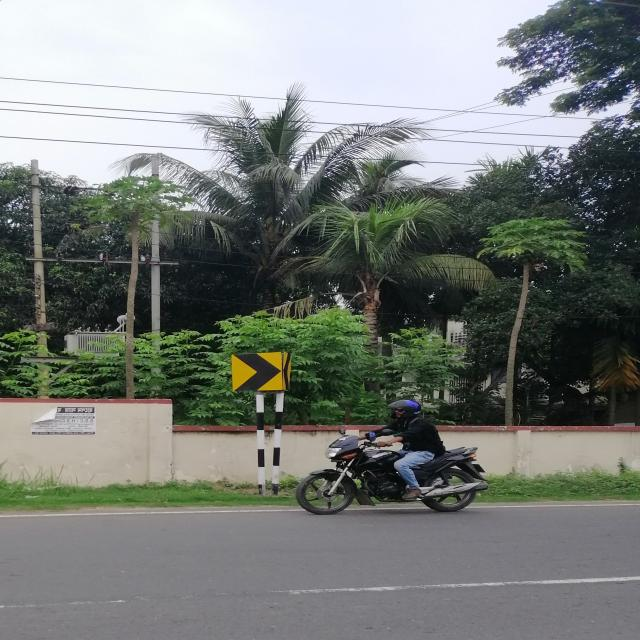Motorbike: (292, 439, 488, 523)
